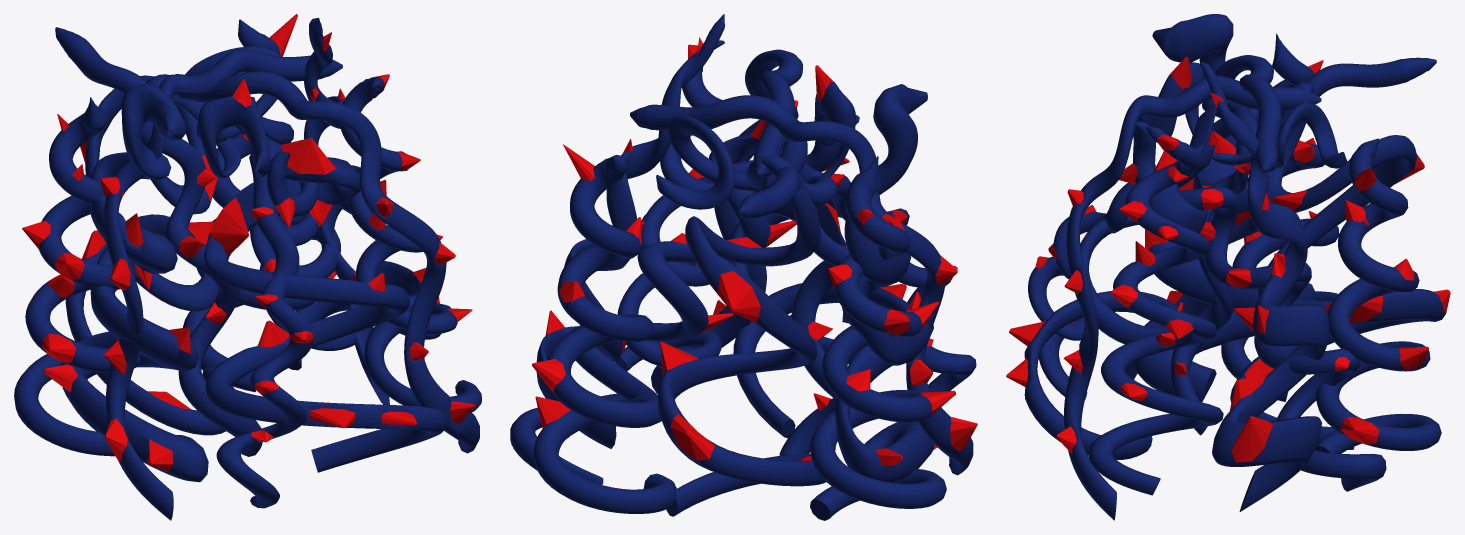
Rendered from ronce FBX.FBX.
3 renders of one model, left to right at view 1: azimuth 30°, elevation 25°; view 2: azimuth 150°, elevation 25°; view 3: azimuth 270°, elevation 25°, orthographic. The views are drawn at different scales.
Parts seen in each view (by area): view 1: ronce; view 2: ronce; view 3: ronce.
Part boxes in pixels (x1,y1,x2,y2): ronce: (14, 14, 481, 520); ronce: (510, 14, 977, 520); ronce: (1006, 14, 1450, 520).
Size of the model in its own units: 7.57 by 7.85 by 7.73.
2 materials, 2 textured.
